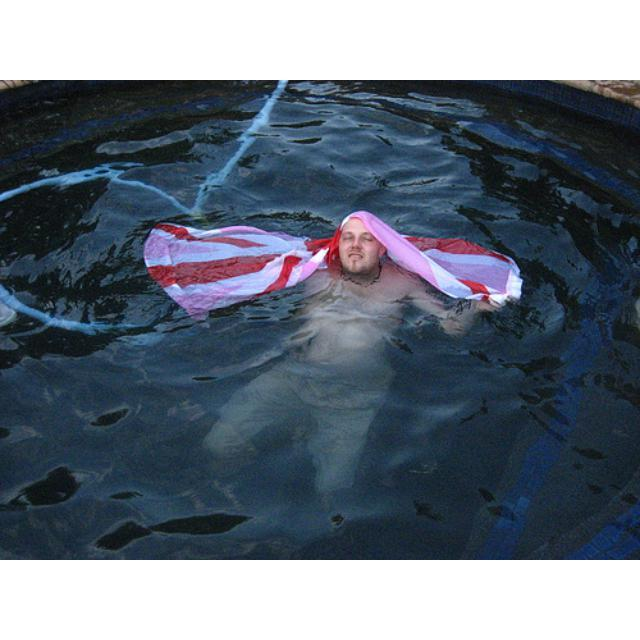human: (208, 214, 497, 509)
